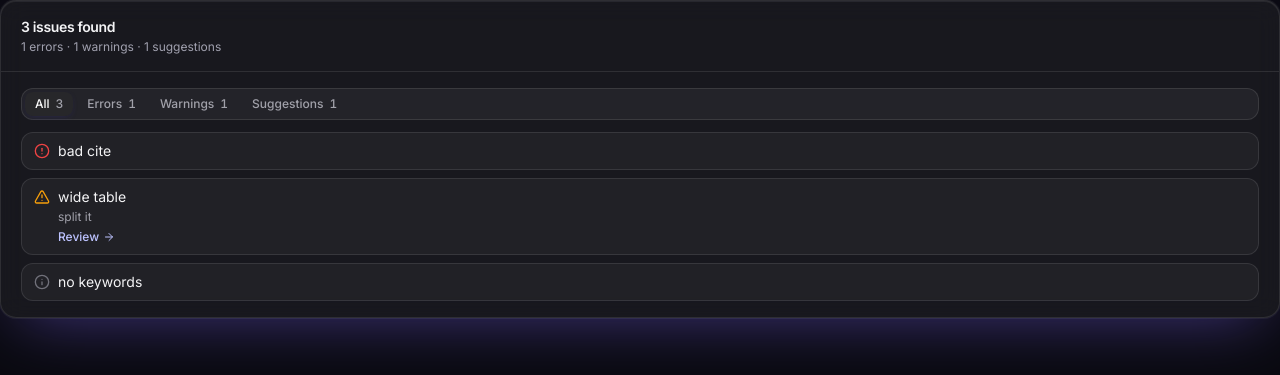
<IssuesPanel /> › filters by severity
expect the heading "3 issues found" is shown: met, box [21,18,115,35]
Click the tab "Errors1" at (112, 104), box [77,92,146,116]
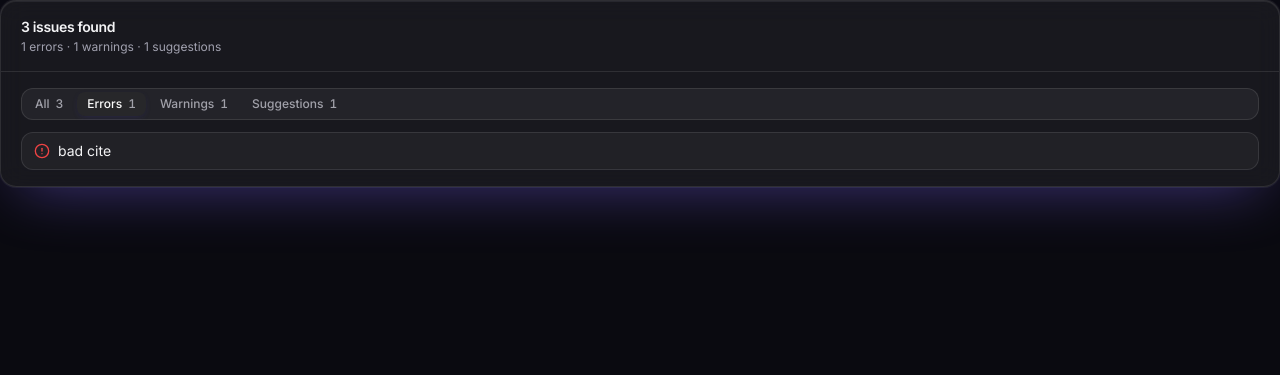
expect the text "bad cite" is shown: met, box [58,142,111,159]
expect the text "wide table" is gone: met
